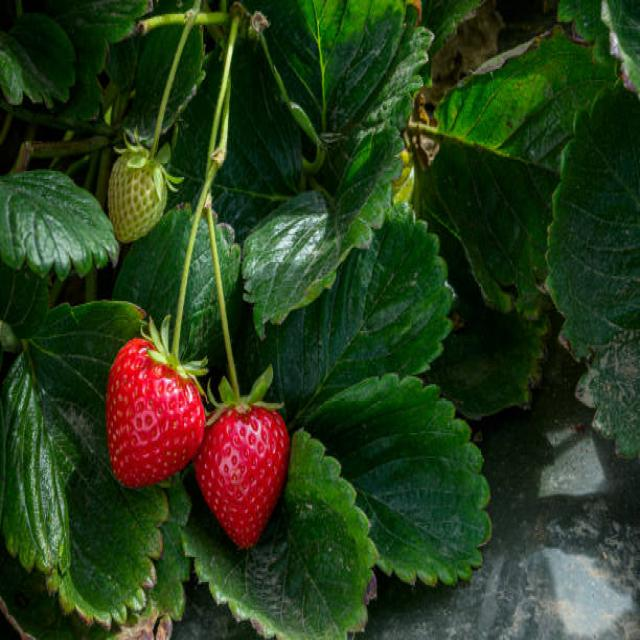Healthy Fruit: (105, 338, 206, 485), (192, 410, 289, 550), (105, 148, 169, 244)
